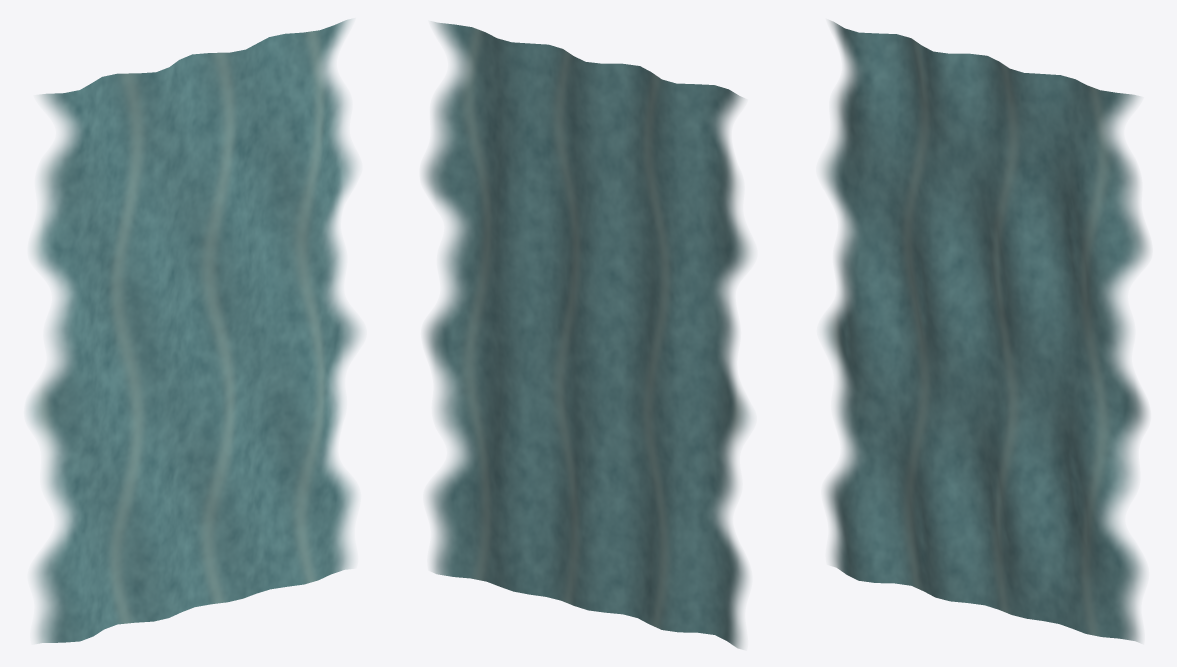
The model's file is waterfall_curtain.glb.
The picture shows the model from 3 angles, left to right: view 1: azimuth 30°, elevation 25°; view 2: azimuth 150°, elevation 25°; view 3: azimuth 330°, elevation 25°; orthographic projection.
Visible parts, largest first — view 1: waterfall_curtain_Mesh; view 2: waterfall_curtain_Mesh; view 3: waterfall_curtain_Mesh.
Boxes of the visible parts, left/top/right/bottom form: waterfall_curtain_Mesh: left=28, top=19, right=360, bottom=643; waterfall_curtain_Mesh: left=423, top=22, right=751, bottom=648; waterfall_curtain_Mesh: left=822, top=21, right=1148, bottom=642.
Bounding box in the file's own units: 4.4 × 6.4 × 0.1994.
1 material, 1 textured.
